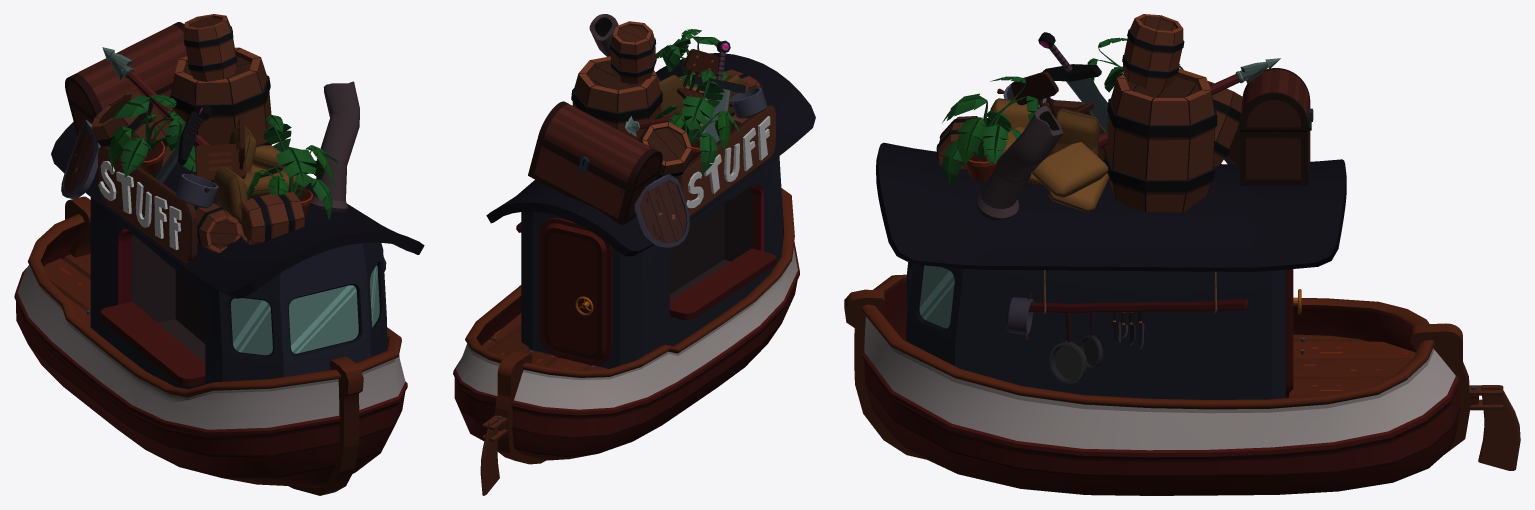
The model's file is Merchant_Boat.fbx.
3 renders of one model, left to right at view 1: azimuth 30°, elevation 25°; view 2: azimuth 150°, elevation 25°; view 3: azimuth 270°, elevation 25°, orthographic. The views are drawn at different scales.
Parts seen in each view (by area): view 1: pCube3; view 2: pCube3; view 3: pCube3.
Part boxes in pixels (<box>): pCube3: <box>14,14,424,495</box>; pCube3: <box>453,14,815,495</box>; pCube3: <box>844,14,1520,495</box>.
Size of the model in its own units: 331 by 566 by 758.
